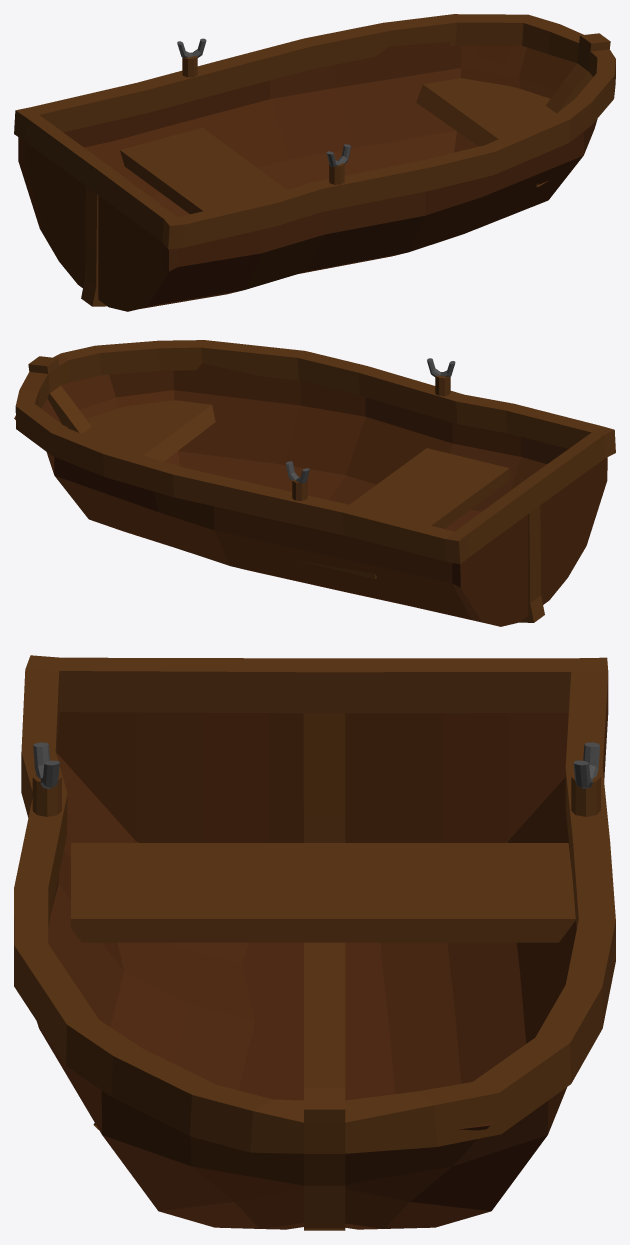
File: Rowboat.fbx
3 views of the same model, one above another, from view 1: azimuth 30°, elevation 25°; view 2: azimuth 150°, elevation 25°; view 3: azimuth 270°, elevation 25° (orthographic). The views are drawn at different scales.
Visible parts, largest first — view 1: Cube; view 2: Cube; view 3: Cube.
Boxes of the visible parts, x1,y1,x2,y2 form: Cube: (14, 14, 615, 311); Cube: (14, 340, 615, 626); Cube: (14, 655, 615, 1230).
Bounding box in the file's own units: 401 × 125 × 220.
